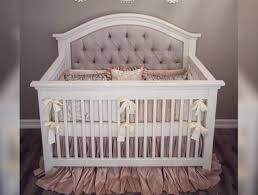crib: (30, 13, 227, 179)
